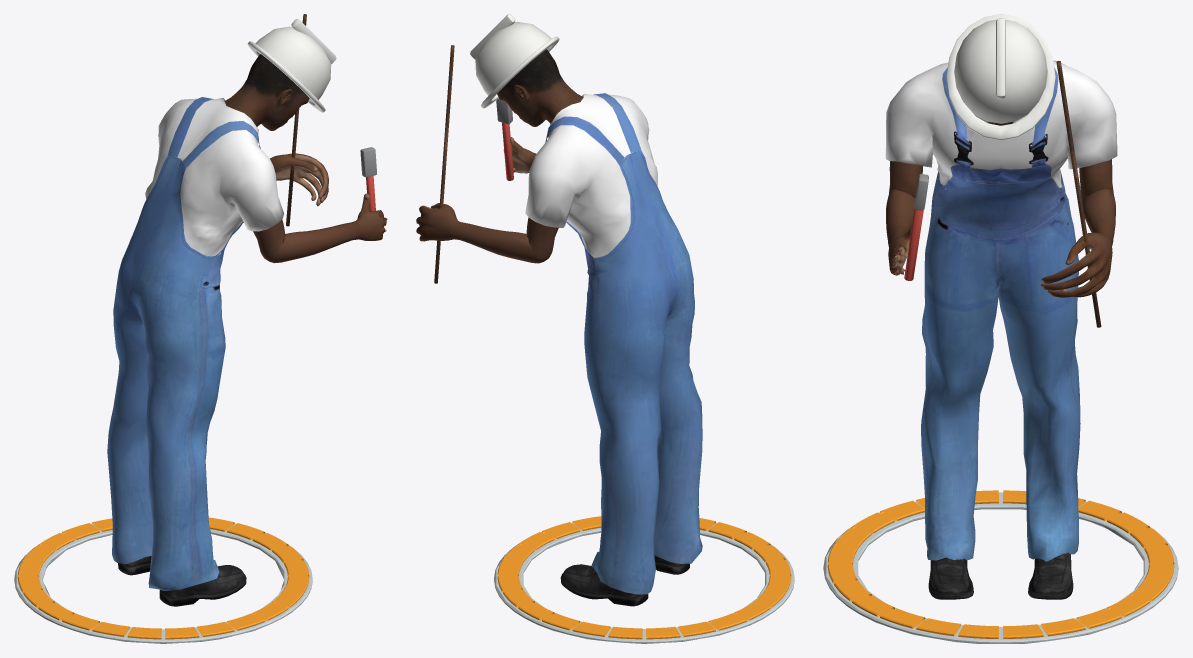
Rendered from MDO-OBR-004_lod1.glb.
3 renders of one model, left to right at view 1: azimuth 30°, elevation 25°; view 2: azimuth 150°, elevation 25°; view 3: azimuth 270°, elevation 25°, orthographic. The views are drawn at different scales.
Visible parts, largest first — view 1: MDO-OBR-004_pessoa_male_worksuit01, MDO-OBR-004_pessoa, MDO-OBR-004_anel_fundo, MDO-OBR-004_capacete, MDO-OBR-004_pessoa_shoes04, MDO-OBR-004_capacete_aba; view 2: MDO-OBR-004_pessoa_male_worksuit01, MDO-OBR-004_pessoa, MDO-OBR-004_anel_fundo, MDO-OBR-004_capacete, MDO-OBR-004_pessoa_shoes04, MDO-OBR-004_ferE_vergalhao, MDO-OBR-004_capacete_aba; view 3: MDO-OBR-004_pessoa_male_worksuit01, MDO-OBR-004_pessoa, MDO-OBR-004_capacete, MDO-OBR-004_anel_fundo, MDO-OBR-004_pessoa_shoes04, MDO-OBR-004_capacete_aba, MDO-OBR-004_ferE_vergalhao, MDO-OBR-004_capacete_friso, MDO-OBR-004_ferD_cabo1, MDO-OBR-004_anel_h03, MDO-OBR-004_anel_h08, MDO-OBR-004_anel_h04 (+9 smaller).
Boxes of the visible parts, x1,y1,x2,y2 form: MDO-OBR-004_pessoa_male_worksuit01: [107, 97, 283, 590]; MDO-OBR-004_pessoa: [224, 54, 387, 263]; MDO-OBR-004_anel_fundo: [14, 524, 312, 643]; MDO-OBR-004_capacete: [255, 26, 331, 102]; MDO-OBR-004_pessoa_shoes04: [118, 556, 246, 606]; MDO-OBR-004_capacete_aba: [247, 41, 325, 112]; MDO-OBR-004_pessoa_male_worksuit01: [525, 93, 702, 594]; MDO-OBR-004_pessoa: [416, 49, 583, 263]; MDO-OBR-004_anel_fundo: [494, 522, 794, 643]; MDO-OBR-004_capacete: [475, 22, 551, 98]; MDO-OBR-004_pessoa_shoes04: [560, 548, 689, 606]; MDO-OBR-004_ferE_vergalhao: [434, 45, 454, 283]; MDO-OBR-004_capacete_aba: [481, 36, 559, 108]; MDO-OBR-004_pessoa_male_worksuit01: [885, 60, 1117, 561]; MDO-OBR-004_pessoa: [886, 121, 1115, 297]; MDO-OBR-004_capacete: [954, 19, 1047, 123]; MDO-OBR-004_anel_fundo: [823, 492, 1178, 643]; MDO-OBR-004_pessoa_shoes04: [928, 552, 1073, 599]; MDO-OBR-004_capacete_aba: [946, 14, 1055, 140]; MDO-OBR-004_ferE_vergalhao: [1056, 61, 1101, 327]; MDO-OBR-004_capacete_friso: [996, 18, 1005, 99]; MDO-OBR-004_ferD_cabo1: [904, 209, 923, 280]; MDO-OBR-004_anel_h03: [1076, 608, 1121, 628]; MDO-OBR-004_anel_h08: [880, 608, 925, 628]; MDO-OBR-004_anel_h04: [1041, 618, 1085, 636].
Size of the model in its own units: 1.04 by 1.65 by 0.84.
11 materials, 6 textured.
